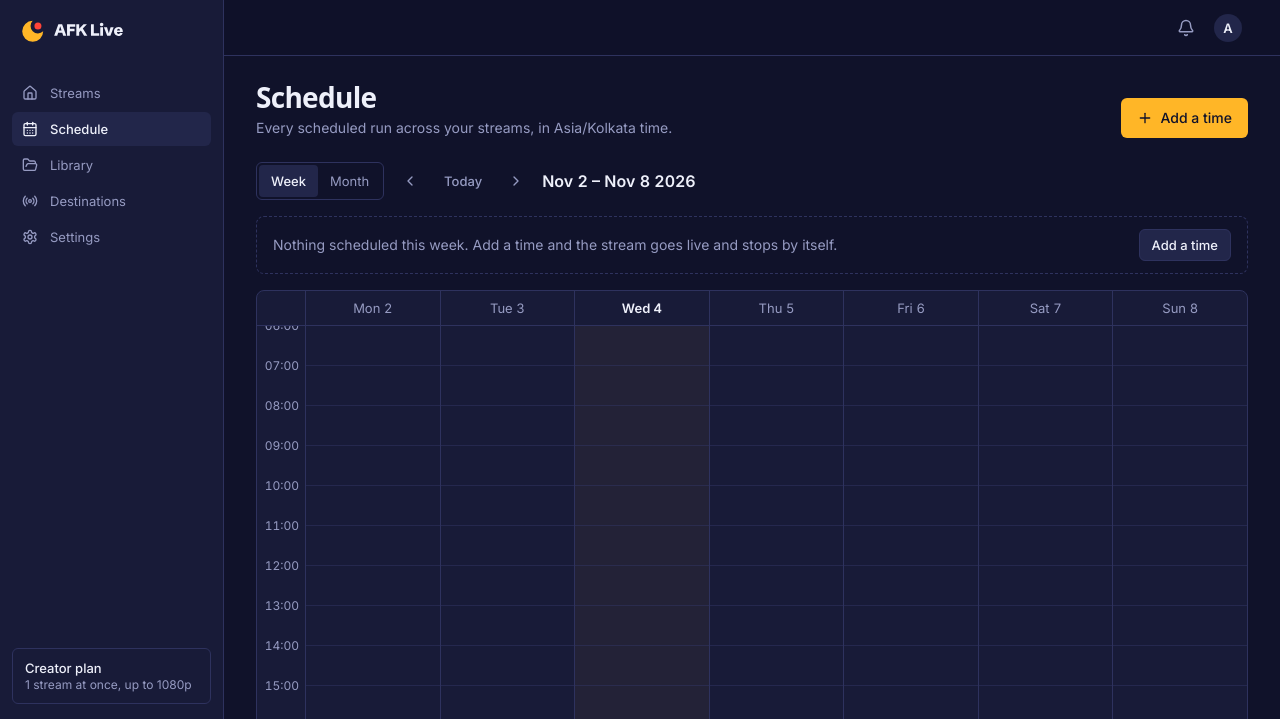
Test: Schedule calendar › on a wide screen, an empty week says what to do next, and Add a time asks which stream (UX audit #18)
(page scrolled)
Expected: the text "Nothing scheduled this week" is shown, [273, 235, 837, 255]
Click the 1st button "Add a time".
click(1184, 118)  # box [1120, 98, 1248, 138]
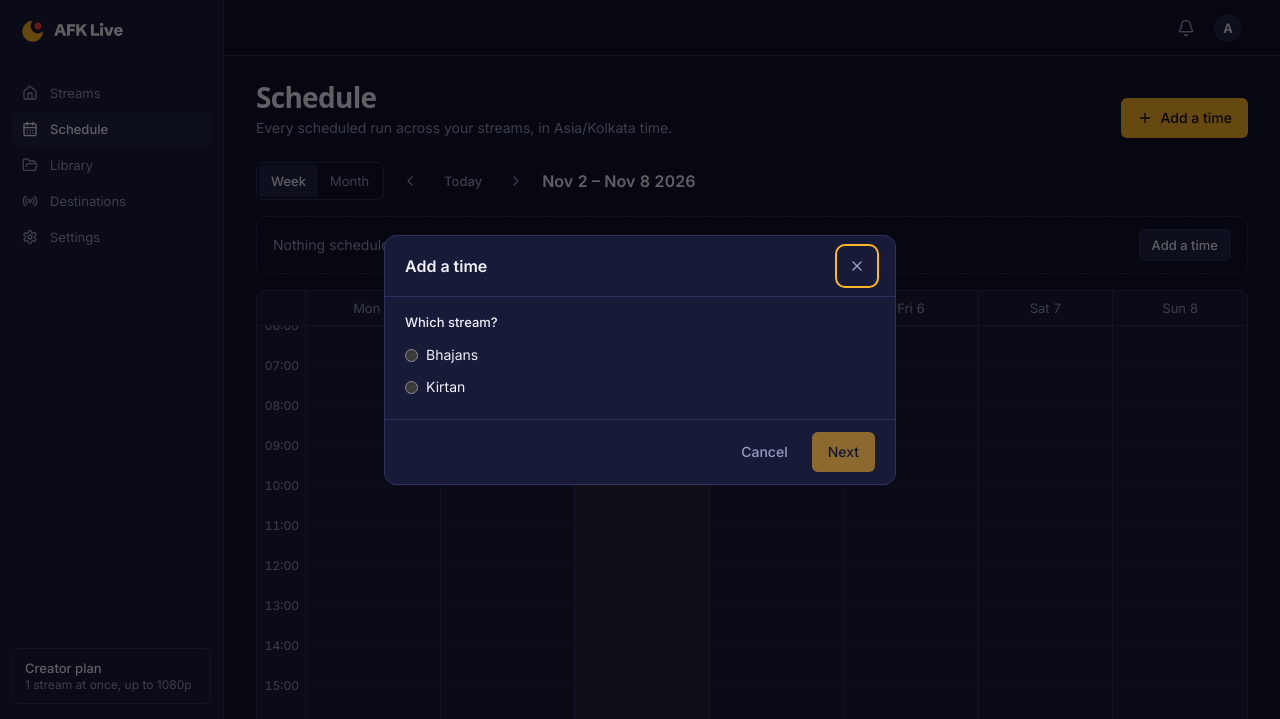
Result: the button "Next" is disabled at [812, 432, 875, 472]
Click the radio button labelled "Kirtan".
click(412, 387)  # box [405, 380, 418, 394]
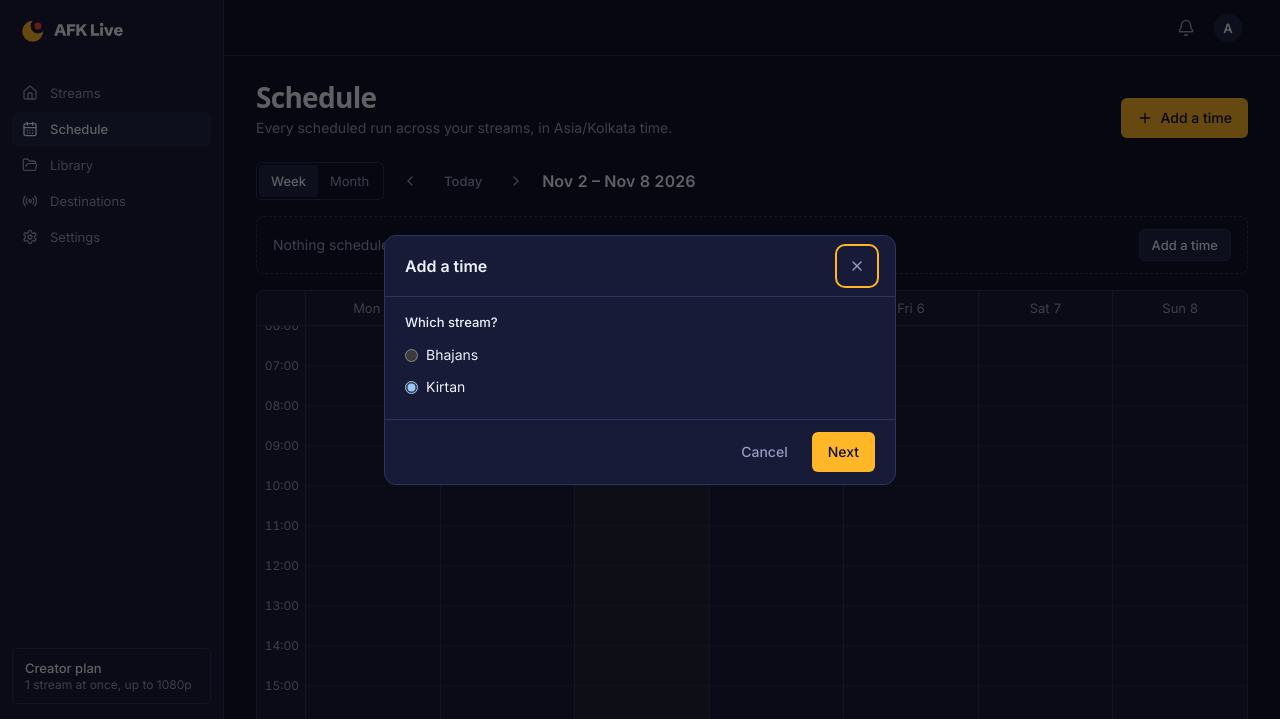
Click the button "Next".
click(843, 452)  # box [812, 432, 875, 472]
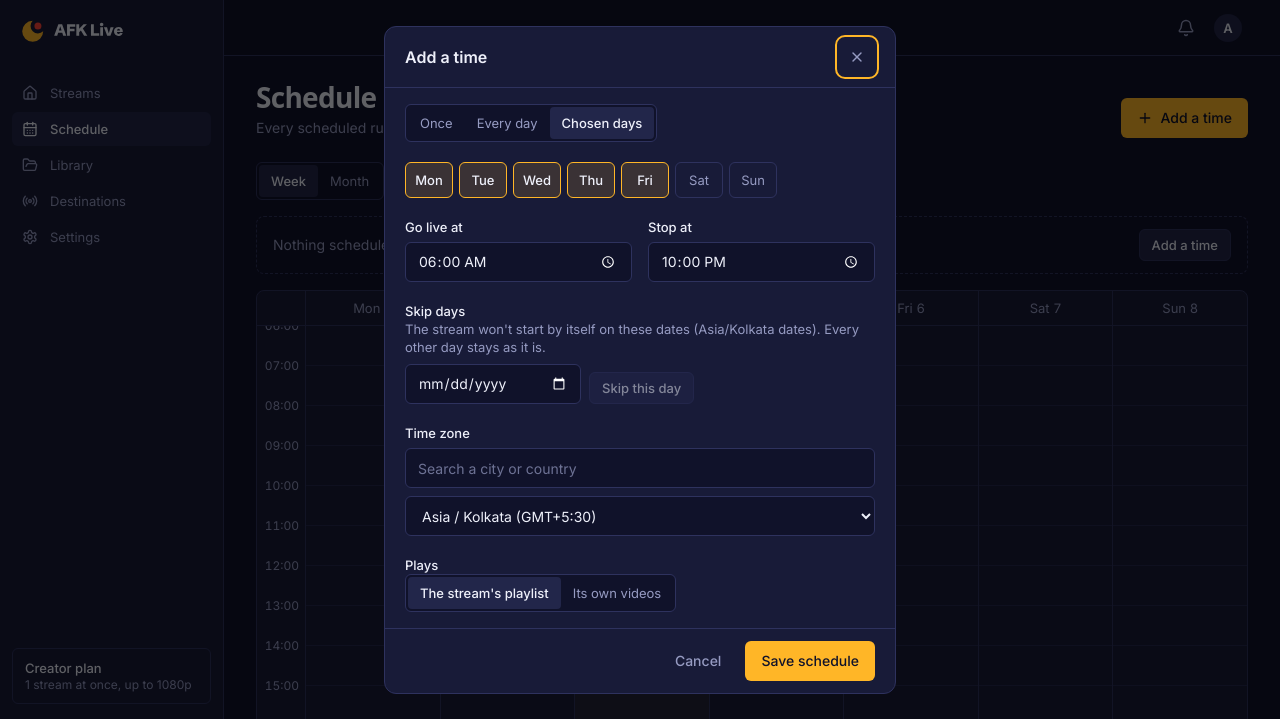
Result: the button "Save schedule" is shown at [745, 641, 875, 681]
